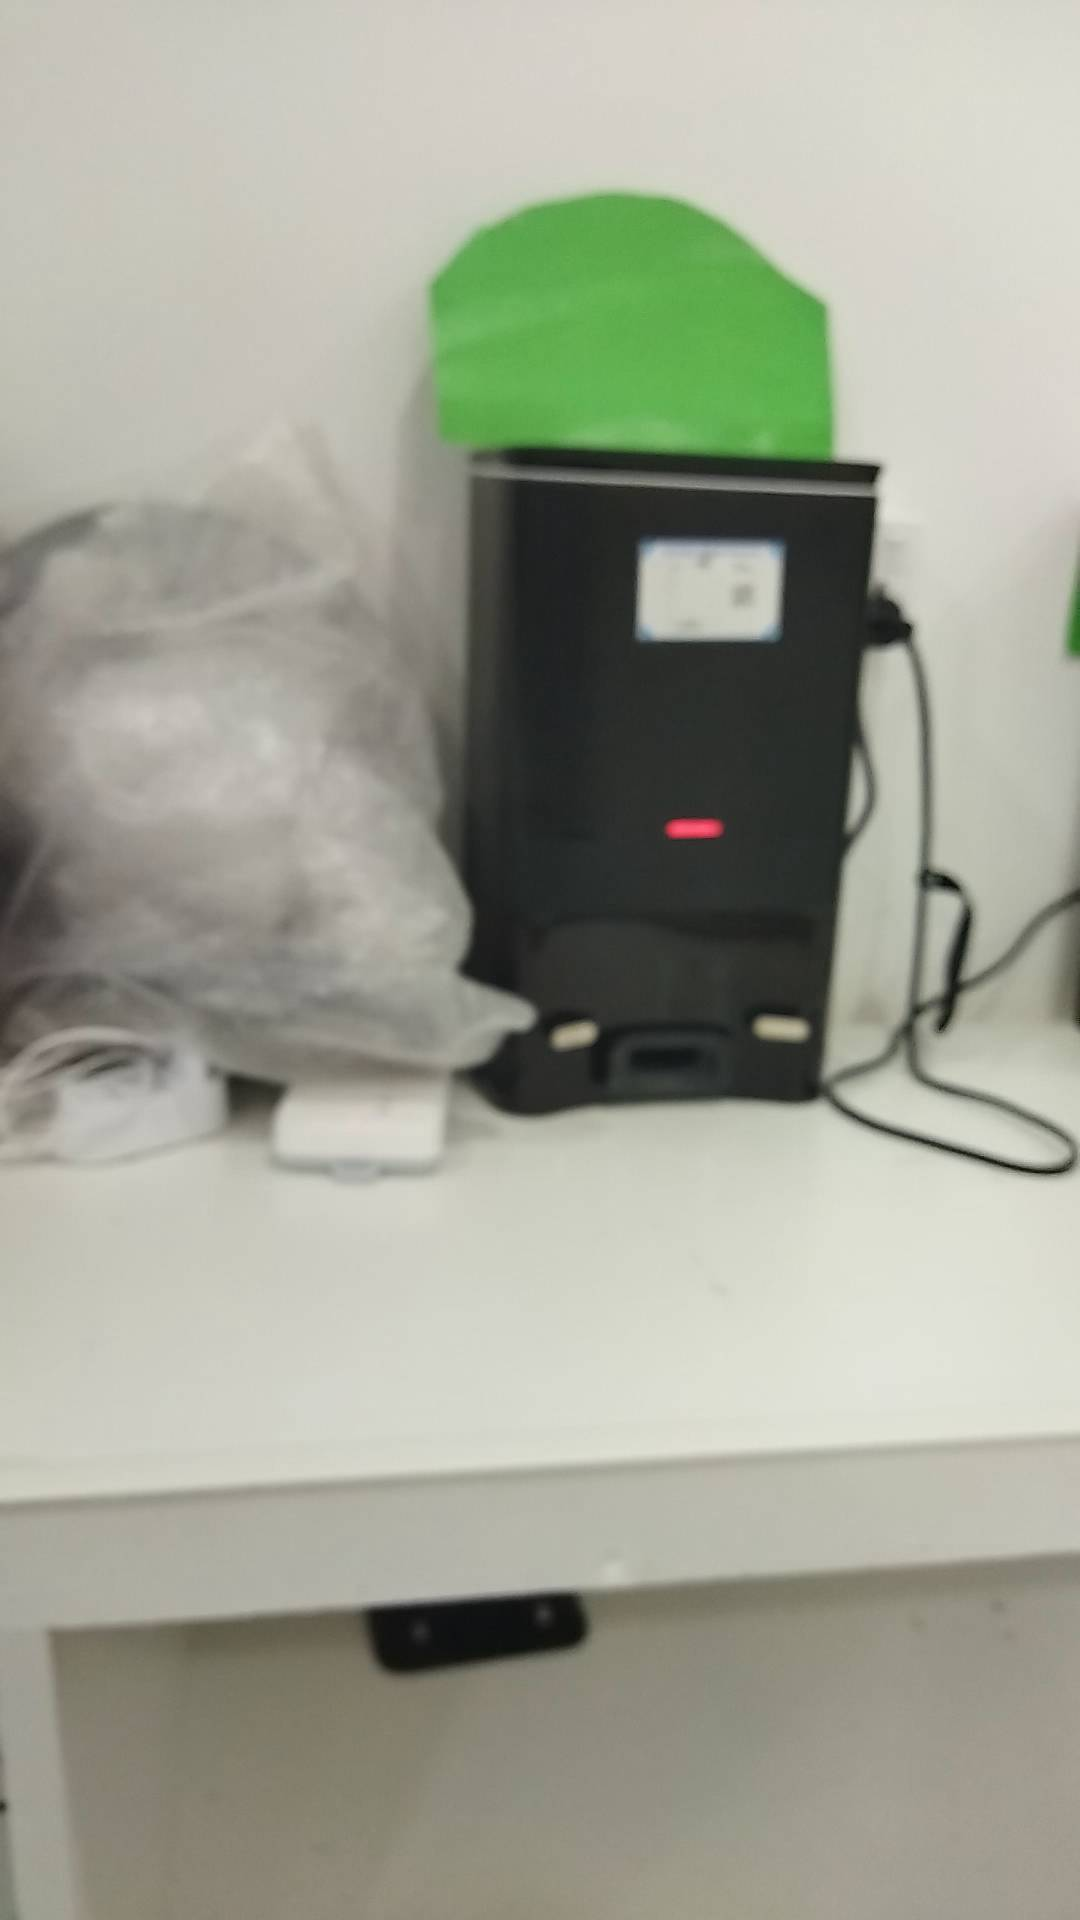dust collecting barrel: (458, 443, 887, 1120)
